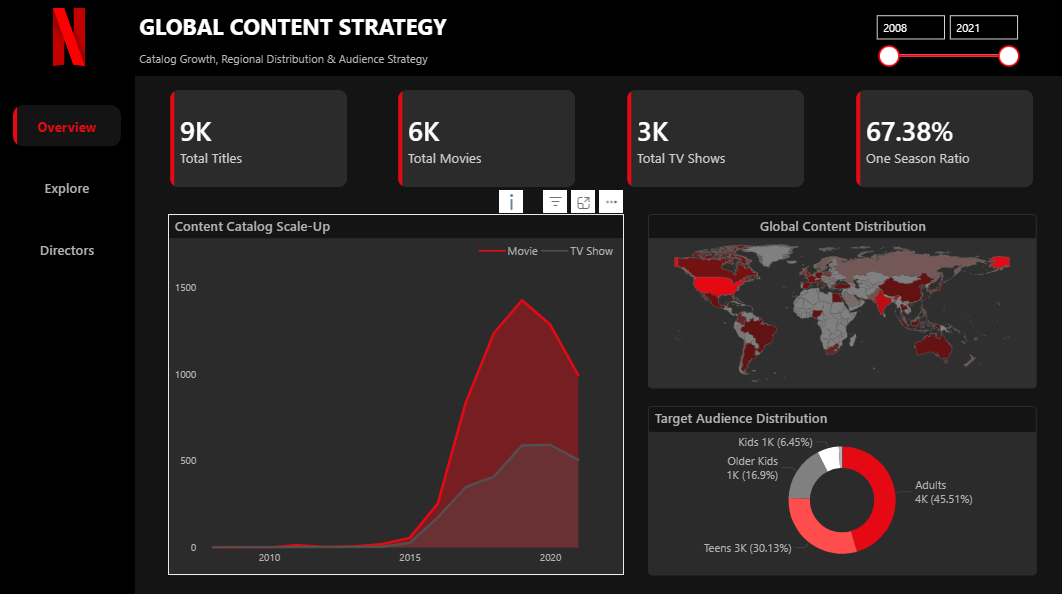

This screenshot's page, from the dashboard's own definition file:
{"tool":"powerbi","page":{"name":"Overview","canvas":[1280,720],"ordinal":0},"visuals":[{"type":"shape","box":[162.5,0,1117.5,92.5],"z":0},{"type":"shape","box":[0,0,162.5,720],"z":1000},{"type":"image","box":[17.5,11.2,130,70],"z":2000},{"type":"textbox","box":[162.5,10,386.2,47.5],"z":3000},{"type":"textbox","box":[162.5,57.8,386.5,43.3],"z":4000},{"type":"slicer","fields":{"Values":["netflix_cleaned_final.year_added"]},"box":[1042.7,9.6,193.8,83.1],"z":5000},{"type":"cardVisual","fields":{"Data":["netflix_cleaned_final.Total Titles"]},"box":[187.5,92.5,247.5,151.2],"z":6000},{"type":"cardVisual","fields":{"Data":["netflix_cleaned_final.Total Movies"]},"box":[462.9,92.5,247.5,151.2],"z":7000},{"type":"cardVisual","fields":{"Data":["netflix_cleaned_final.Total TV Shows"]},"box":[738.3,92.5,247.5,151.2],"z":8000},{"type":"cardVisual","fields":{"Data":["netflix_cleaned_final.One Season Ratio"]},"box":[1013.8,92.5,247.5,151.2],"z":9000},{"type":"shapeMap","title":"Global Content Distribution","fields":{"Category":["netflix_cleaned_final.country.1"],"Value":["netflix_cleaned_final.Total Titles"]},"box":[780,258.8,467.5,210],"z":10000},{"type":"areaChart","title":"Content Catalog Scale-Up","fields":{"Category":["netflix_cleaned_final.year_added"],"Y":["netflix_cleaned_final.Total Titles"],"Series":["netflix_cleaned_final.type"]},"box":[202.5,258.8,548.8,435],"z":11000},{"type":"donutChart","title":"Target Audience Distribution","fields":{"Category":["netflix_cleaned_final.maturity_level"],"Y":["netflix_cleaned_final.Total Titles"]},"box":[780,490,467.5,203.8],"z":12000},{"type":"pageNavigator","box":[15.7,127.6,130,198.7],"z":13000}]}

Visuals, with their boxes in screenshot pixels (x1, y1, x2, y2), scaled from the page's 1280x720 canvas onto the 1062x594 screenshot:
shape: {"x1": 135, "y1": 0, "x2": 1061, "y2": 76}
shape: {"x1": 0, "y1": 0, "x2": 135, "y2": 593}
image: {"x1": 15, "y1": 9, "x2": 122, "y2": 67}
textbox: {"x1": 135, "y1": 8, "x2": 455, "y2": 47}
textbox: {"x1": 135, "y1": 48, "x2": 455, "y2": 83}
slicer - netflix_cleaned_final.year_added: {"x1": 865, "y1": 8, "x2": 1026, "y2": 76}
cardVisual - netflix_cleaned_final.Total Titles: {"x1": 156, "y1": 76, "x2": 361, "y2": 201}
cardVisual - netflix_cleaned_final.Total Movies: {"x1": 384, "y1": 76, "x2": 589, "y2": 201}
cardVisual - netflix_cleaned_final.Total TV Shows: {"x1": 613, "y1": 76, "x2": 818, "y2": 201}
cardVisual - netflix_cleaned_final.One Season Ratio: {"x1": 841, "y1": 76, "x2": 1046, "y2": 201}
"Global Content Distribution" shapeMap: {"x1": 647, "y1": 214, "x2": 1035, "y2": 387}
"Content Catalog Scale-Up" areaChart: {"x1": 168, "y1": 214, "x2": 623, "y2": 572}
"Target Audience Distribution" donutChart: {"x1": 647, "y1": 404, "x2": 1035, "y2": 572}
pageNavigator: {"x1": 13, "y1": 105, "x2": 121, "y2": 269}
